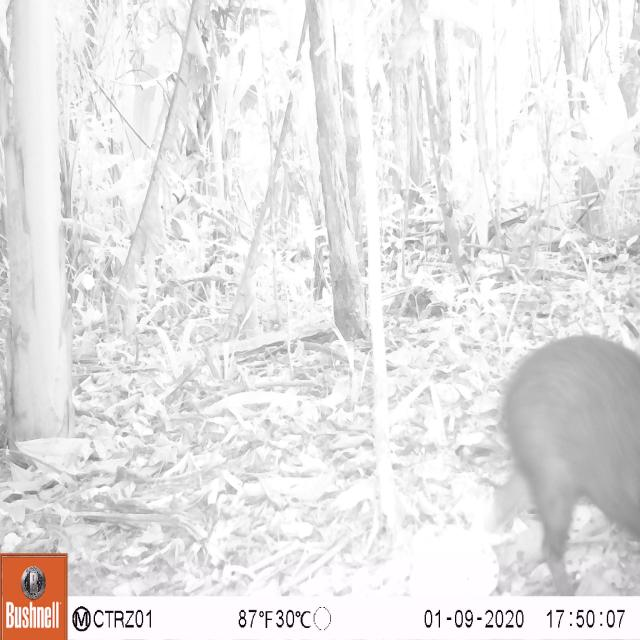Black Agouti: (480, 332, 639, 594)
